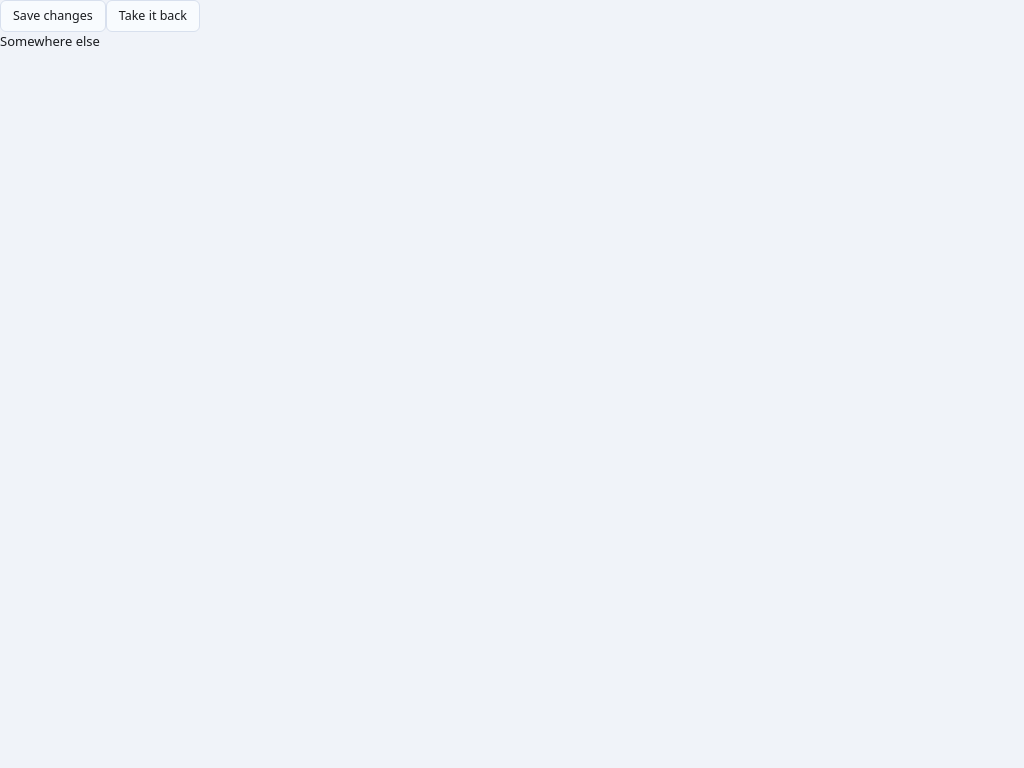
is in a region named Notifications that announces politely
Hover over the text "Somewhere else" at (50, 41), box [0, 32, 100, 50]
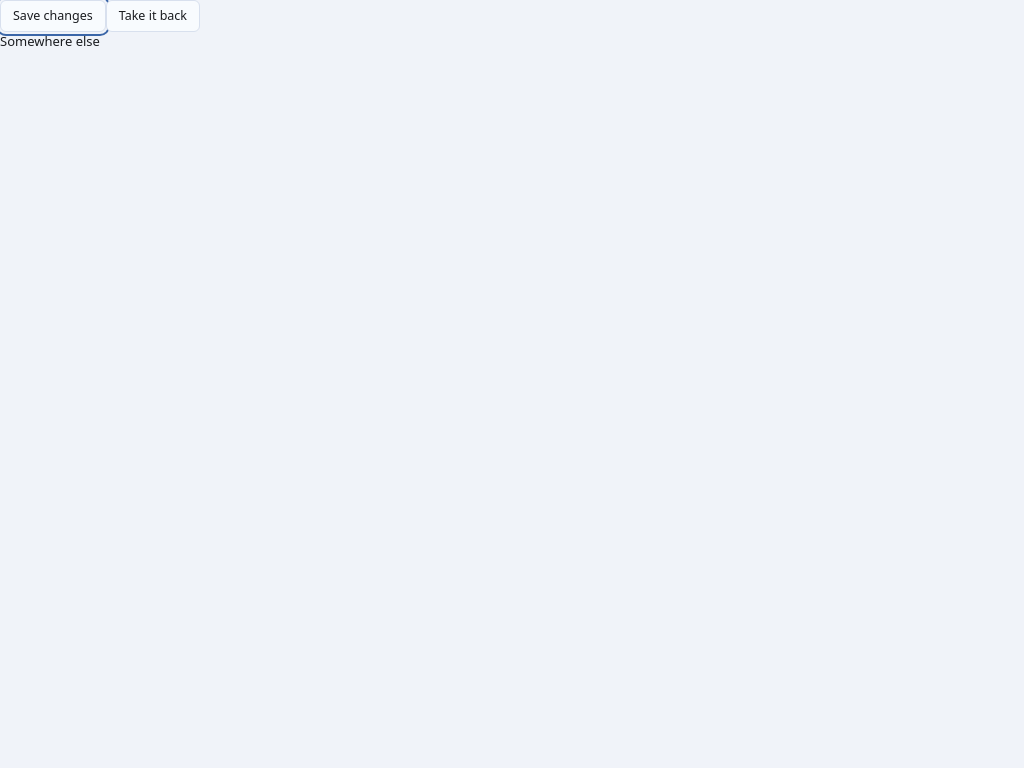
Press Enter
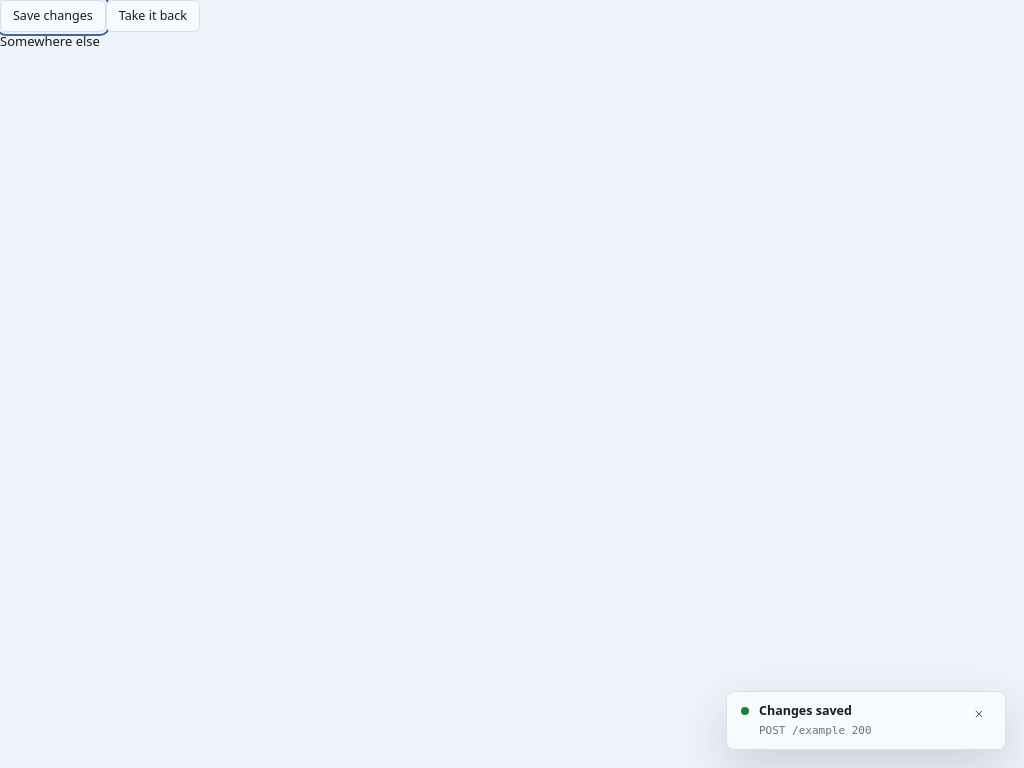
Check: the dialog "Changes saved POST /example 200" is shown, box [726, 691, 1006, 750]
